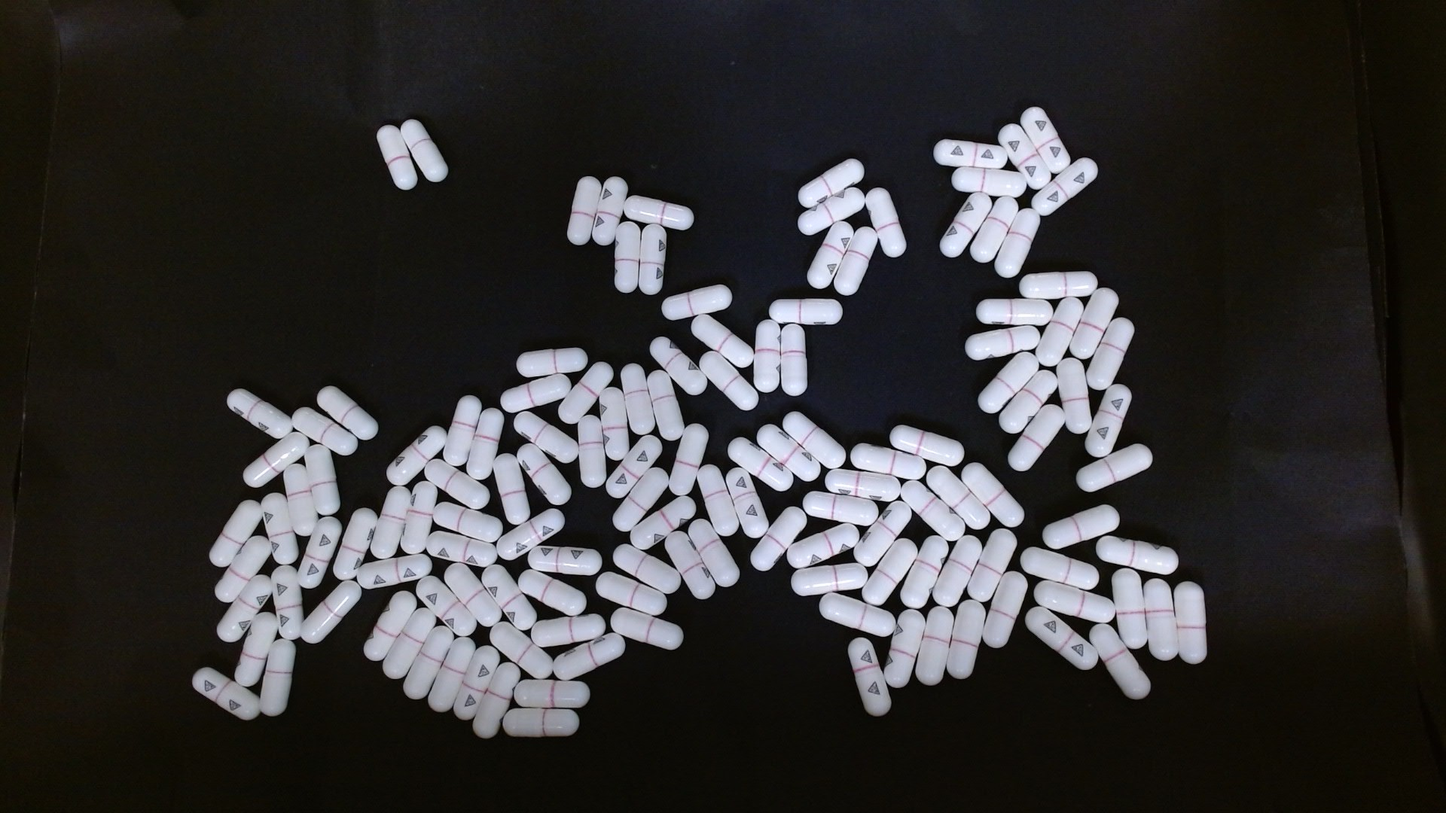Capsule: (1023, 604, 1105, 679), (1087, 621, 1155, 704), (650, 336, 717, 406), (443, 564, 508, 636), (975, 350, 1043, 416), (206, 497, 267, 569), (215, 572, 276, 644), (604, 430, 665, 501), (1074, 442, 1155, 495), (470, 660, 523, 741), (1005, 403, 1066, 473), (861, 536, 920, 608), (478, 563, 542, 629), (998, 366, 1059, 435), (214, 532, 273, 603), (898, 530, 951, 609), (628, 494, 701, 551), (362, 589, 419, 662), (899, 478, 964, 542), (961, 461, 1024, 527), (489, 618, 556, 680), (191, 664, 261, 723), (746, 506, 809, 571), (852, 500, 913, 567), (1083, 383, 1136, 460), (612, 465, 672, 533), (1069, 286, 1120, 366), (243, 431, 312, 490), (302, 579, 364, 644), (966, 527, 1019, 603), (690, 312, 757, 372), (925, 465, 988, 528), (698, 350, 760, 414), (385, 425, 450, 486), (1033, 294, 1085, 370), (414, 578, 476, 641), (451, 645, 503, 720), (494, 507, 566, 561), (558, 360, 616, 427), (932, 534, 984, 608), (756, 422, 820, 482), (783, 413, 850, 470), (664, 531, 719, 600), (1030, 579, 1116, 623), (1085, 316, 1135, 391), (297, 514, 345, 592), (384, 607, 436, 679), (847, 635, 892, 718), (233, 610, 280, 689), (316, 385, 380, 443), (690, 515, 740, 589), (998, 123, 1053, 190), (817, 592, 897, 638), (1036, 157, 1098, 216), (612, 543, 681, 596), (727, 436, 790, 494), (517, 441, 573, 506), (981, 568, 1027, 647), (1020, 545, 1102, 589), (226, 387, 294, 440), (1040, 504, 1120, 549), (404, 626, 453, 699), (1094, 533, 1181, 574), (423, 457, 489, 511), (291, 406, 357, 460), (938, 193, 991, 260), (515, 410, 578, 466), (332, 507, 379, 582), (971, 193, 1020, 264), (595, 570, 669, 617), (797, 157, 865, 208), (697, 466, 743, 541), (1020, 106, 1070, 175), (788, 522, 861, 569), (517, 568, 586, 617), (398, 479, 443, 554), (807, 219, 855, 289), (1111, 567, 1151, 650), (370, 485, 413, 562), (884, 608, 926, 686), (997, 206, 1041, 280), (554, 635, 626, 680), (945, 599, 986, 678), (427, 641, 473, 711), (889, 424, 965, 466), (490, 453, 533, 526), (611, 607, 682, 651), (302, 444, 342, 522), (282, 459, 322, 537), (400, 118, 448, 183), (1142, 577, 1180, 659), (425, 528, 499, 570), (831, 227, 876, 296), (913, 607, 952, 686), (432, 500, 502, 544), (848, 442, 929, 480), (258, 638, 297, 716), (465, 406, 505, 482), (865, 187, 907, 259), (267, 565, 306, 641), (802, 490, 880, 528), (1173, 580, 1209, 662), (967, 324, 1042, 363), (646, 369, 685, 444), (670, 423, 709, 497), (500, 372, 572, 412), (444, 394, 484, 466), (260, 491, 298, 566), (725, 467, 770, 530), (621, 359, 657, 436), (790, 562, 869, 597), (824, 467, 903, 502), (528, 540, 602, 577), (530, 612, 602, 650), (590, 176, 629, 246), (1055, 358, 1092, 431), (798, 192, 862, 234), (357, 553, 428, 590), (597, 385, 630, 464), (577, 411, 609, 491), (376, 125, 416, 189), (659, 284, 732, 319), (566, 175, 602, 245), (511, 677, 588, 709), (624, 195, 694, 230), (933, 138, 1007, 171), (1019, 270, 1099, 300), (611, 220, 643, 295), (503, 707, 579, 738), (514, 347, 588, 378), (952, 166, 1027, 196), (975, 297, 1051, 326), (639, 222, 667, 298), (753, 319, 781, 394), (770, 297, 841, 326), (780, 326, 807, 397)
